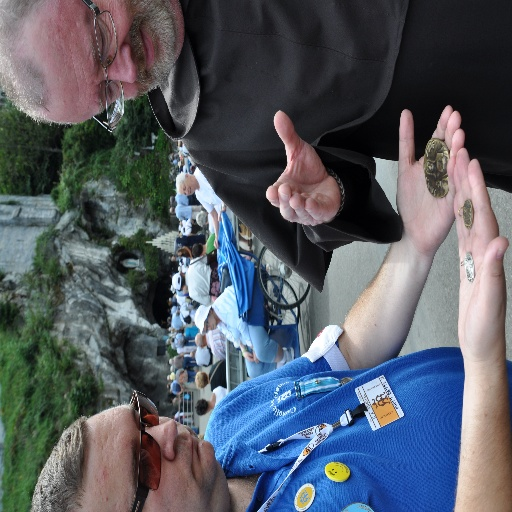hand: (453, 145, 509, 359), (272, 103, 355, 242), (395, 106, 465, 256), (216, 208, 226, 222), (243, 349, 252, 361), (213, 238, 218, 252), (253, 351, 258, 364)
